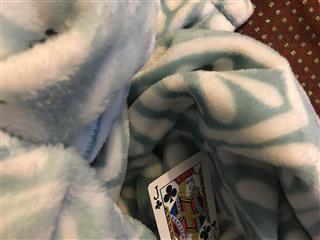JackOfClubs: (146, 150, 220, 240)
